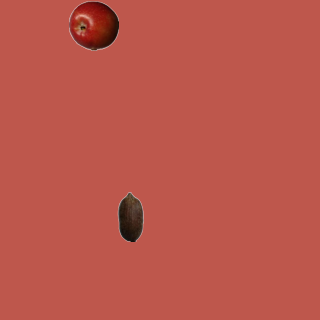Apple Braeburn: (68, 0, 118, 50)
Nut Pecan: (105, 191, 155, 241)
